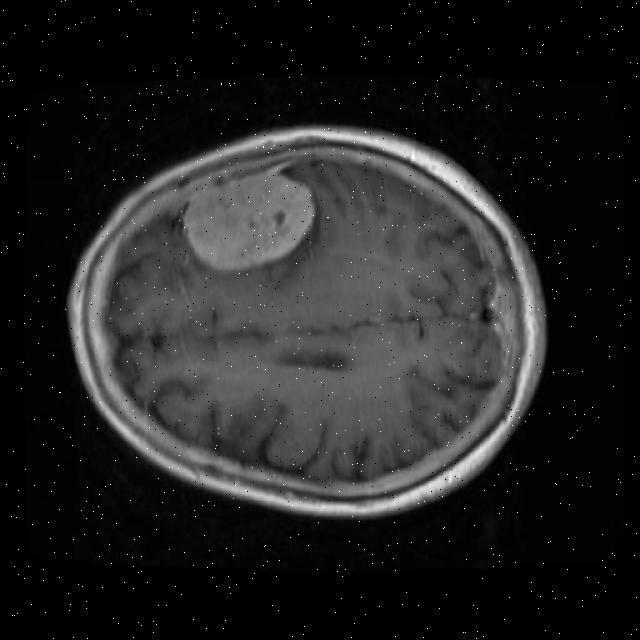Meningioma: (183, 166, 315, 270)
